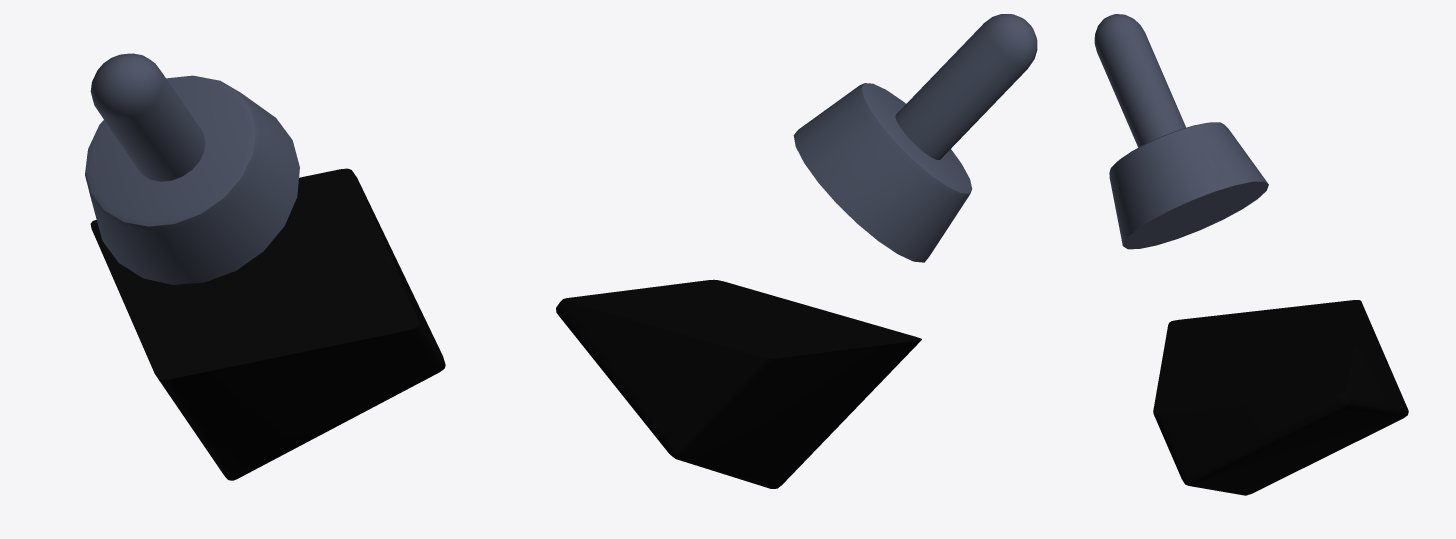
File: Item_Ink.FBX
3 views of the same model, side by side, from view 1: azimuth 30°, elevation 25°; view 2: azimuth 150°, elevation 25°; view 3: azimuth 270°, elevation 25° (orthographic). The views are drawn at different scales.
Parts seen in each view (by area): view 1: Item_Potion; view 2: Item_Potion; view 3: Item_Potion.
Boxes of the visible parts, x1,y1,x2,y2 form: Item_Potion: [85, 53, 445, 480]; Item_Potion: [556, 14, 1037, 488]; Item_Potion: [1094, 14, 1408, 495].
Bounding box in the file's own units: 3.68 × 4.55 × 3.52.
